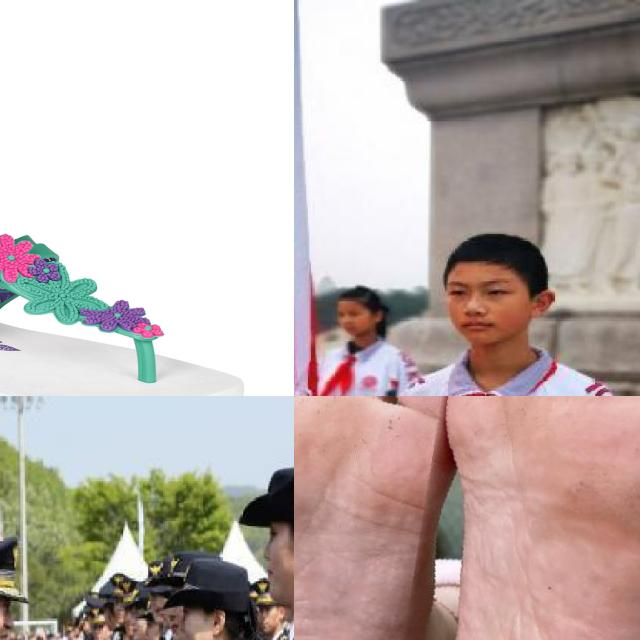Barefoots: (395, 396, 640, 640), (294, 396, 475, 640)
No_Ear-Protection: (210, 607, 228, 636)
Sandals: (0, 232, 248, 396)
face_nomask: (442, 271, 523, 355), (254, 518, 294, 607), (175, 604, 220, 640), (332, 301, 368, 334), (0, 595, 22, 640)
head_nohelmet: (431, 229, 545, 282), (176, 562, 254, 618), (246, 458, 294, 527), (0, 539, 26, 600), (330, 286, 372, 306)
person: (389, 232, 615, 396), (206, 438, 294, 640), (55, 563, 251, 640), (294, 284, 409, 396)
